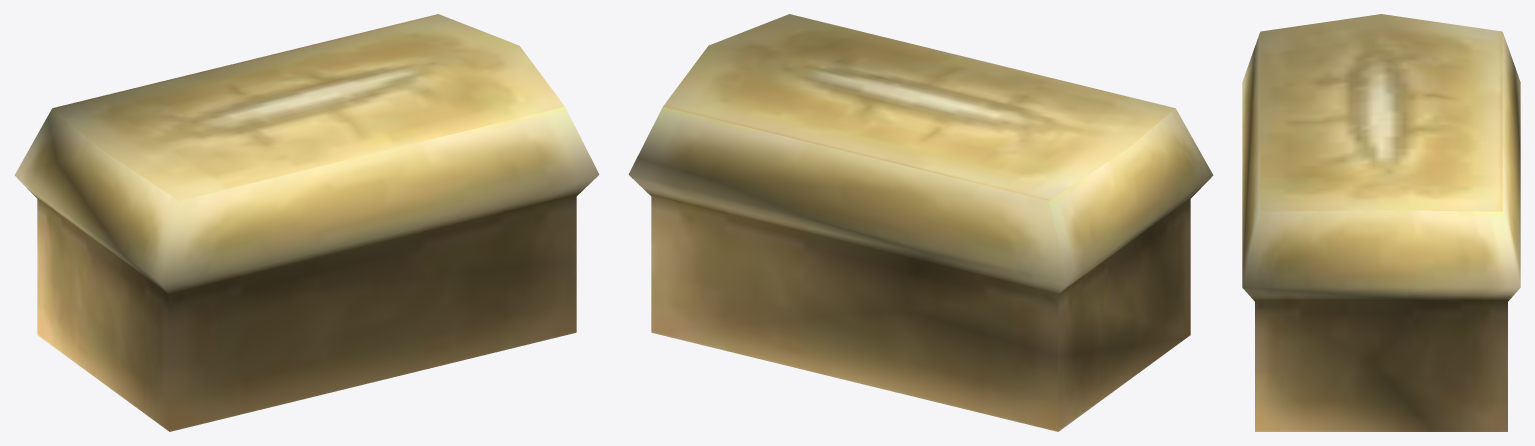
The model's file is bread.glb.
3 views of the same model, side by side, from view 1: azimuth 30°, elevation 25°; view 2: azimuth 150°, elevation 25°; view 3: azimuth 270°, elevation 25° (orthographic). The views are drawn at different scales.
Visible parts, largest first — view 1: bread_Geoset0; view 2: bread_Geoset0; view 3: bread_Geoset0.
Part boxes in pixels (x1,y1,x2,y2): bread_Geoset0: (14, 14, 599, 431); bread_Geoset0: (628, 14, 1213, 431); bread_Geoset0: (1242, 14, 1520, 431).
Size of the model in its own units: 0.1692 by 0.087 by 0.0971.
Materials: 1 (1 with a texture image).
